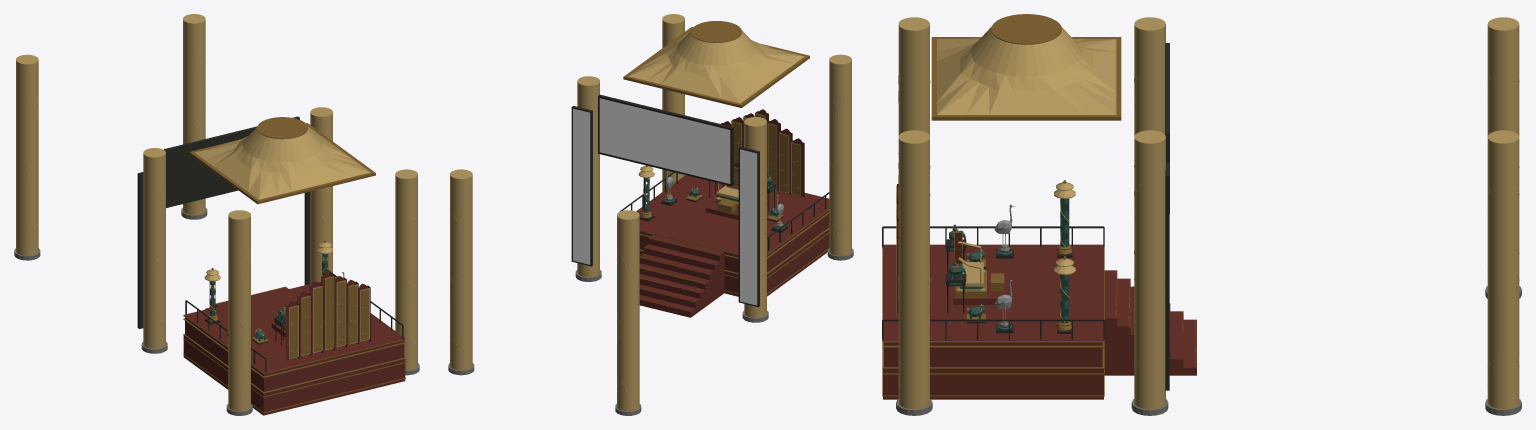
File: taihe-v17-display-28d7a11dbeda.glb
The picture shows the model from 3 angles, left to right: view 1: azimuth 30°, elevation 25°; view 2: azimuth 150°, elevation 25°; view 3: azimuth 270°, elevation 25°; orthographic projection. The views are drawn at different scales.
Visible parts, largest first — view 1: merged_taihe_gold, merged_taihe_lacquer, merged_taihe_dark_gold, merged_taihe_dark_wood, merged_taihe_stone, throne_blue_waist; view 2: merged_taihe_gold, merged_taihe_lacquer, merged_taihe_glyph_atlas, merged_taihe_dark_gold, merged_taihe_dark_wood, merged_taihe_stone, throne_blue_waist; view 3: merged_taihe_gold, merged_taihe_lacquer, merged_taihe_dark_gold, merged_taihe_dark_wood, throne_blue_waist, merged_taihe_stone.
Part boxes in pixels (<box>): merged_taihe_gold: <box>16,14,417,410</box>; merged_taihe_lacquer: <box>183,272,405,415</box>; merged_taihe_dark_gold: <box>183,117,405,413</box>; merged_taihe_dark_wood: <box>137,116,403,373</box>; merged_taihe_stone: <box>14,208,419,415</box>; throne_blue_waist: <box>209,254,328,340</box>; merged_taihe_gold: <box>450,14,851,410</box>; merged_taihe_lacquer: <box>636,109,829,317</box>; merged_taihe_glyph_atlas: <box>573,98,757,305</box>; merged_taihe_dark_gold: <box>623,21,829,310</box>; merged_taihe_dark_wood: <box>571,94,829,307</box>; merged_taihe_stone: <box>448,194,853,415</box>; throne_blue_waist: <box>643,173,785,229</box>; merged_taihe_gold: <box>896,17,1519,409</box>; merged_taihe_lacquer: <box>883,184,1196,399</box>; merged_taihe_dark_gold: <box>882,14,1196,396</box>; merged_taihe_dark_wood: <box>882,43,1169,390</box>; throne_blue_waist: <box>949,198,1069,330</box>; merged_taihe_stone: <box>896,244,1521,415</box>.
Bounding box in the file's own units: 9.63 × 11.27 × 20.25.
